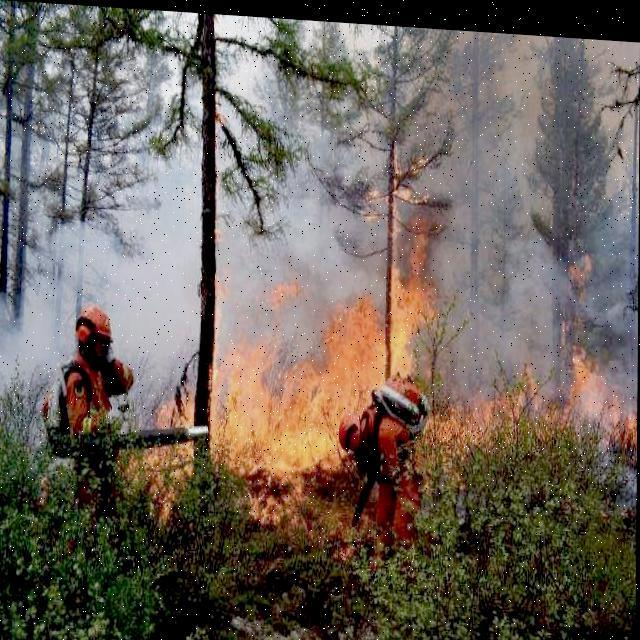Fire: (132, 242, 626, 522)
